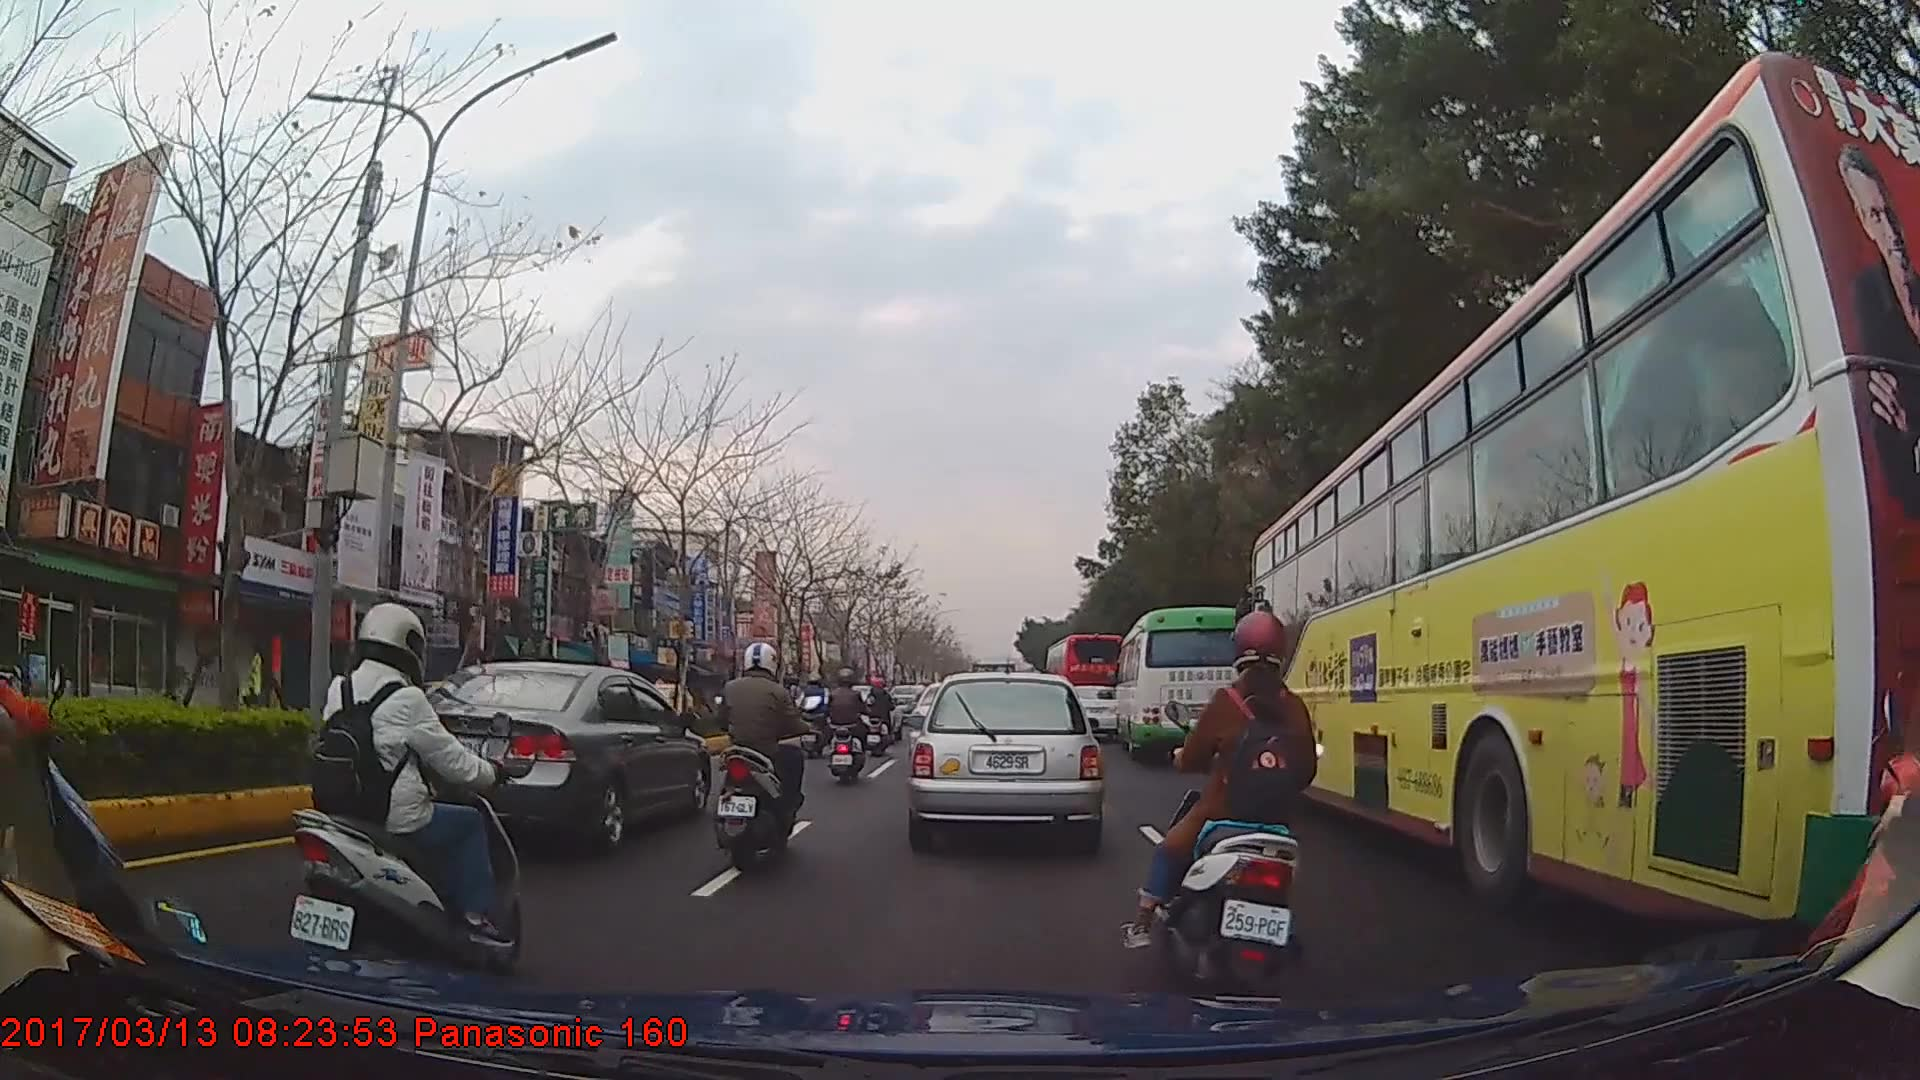rider: (283, 603, 526, 983), (1134, 613, 1325, 991), (1, 543, 163, 985), (714, 641, 820, 877), (826, 670, 865, 785), (865, 678, 897, 759), (800, 674, 834, 746)
vehicle: (1251, 49, 1918, 934), (375, 659, 711, 854), (909, 668, 1103, 848), (1114, 604, 1265, 760), (1045, 633, 1130, 734)
